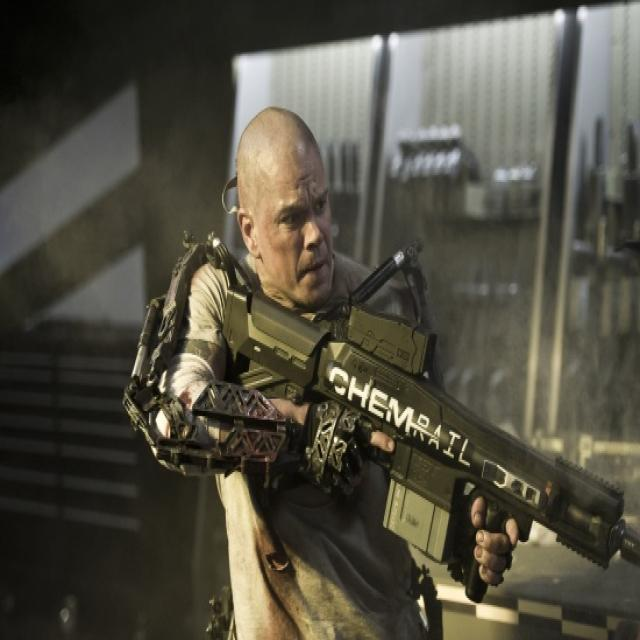rifle: (226, 283, 640, 608)
